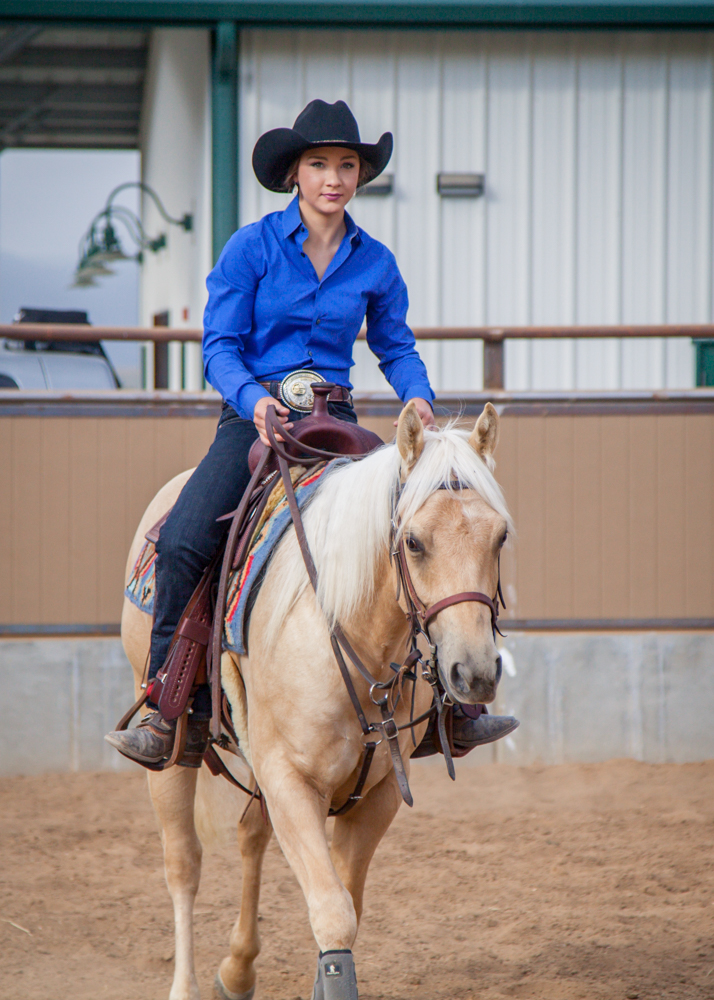Horse: (100, 418, 535, 992)
Person: (103, 85, 391, 688)
